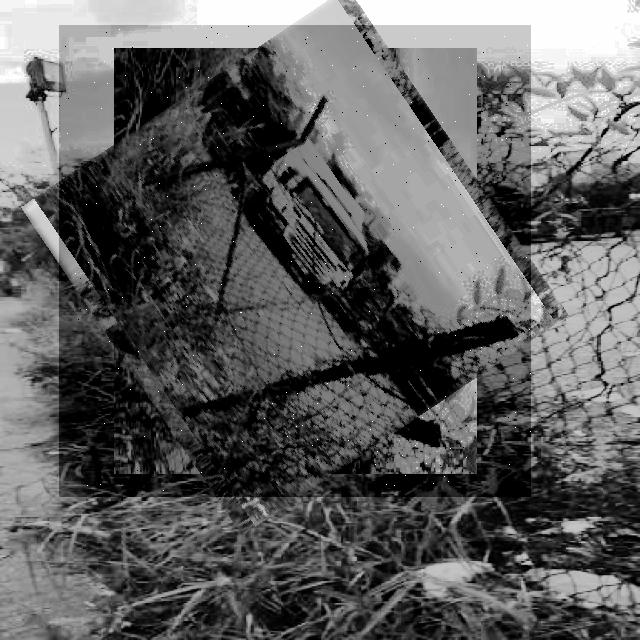anomaly-fence: (59, 25, 531, 497)
